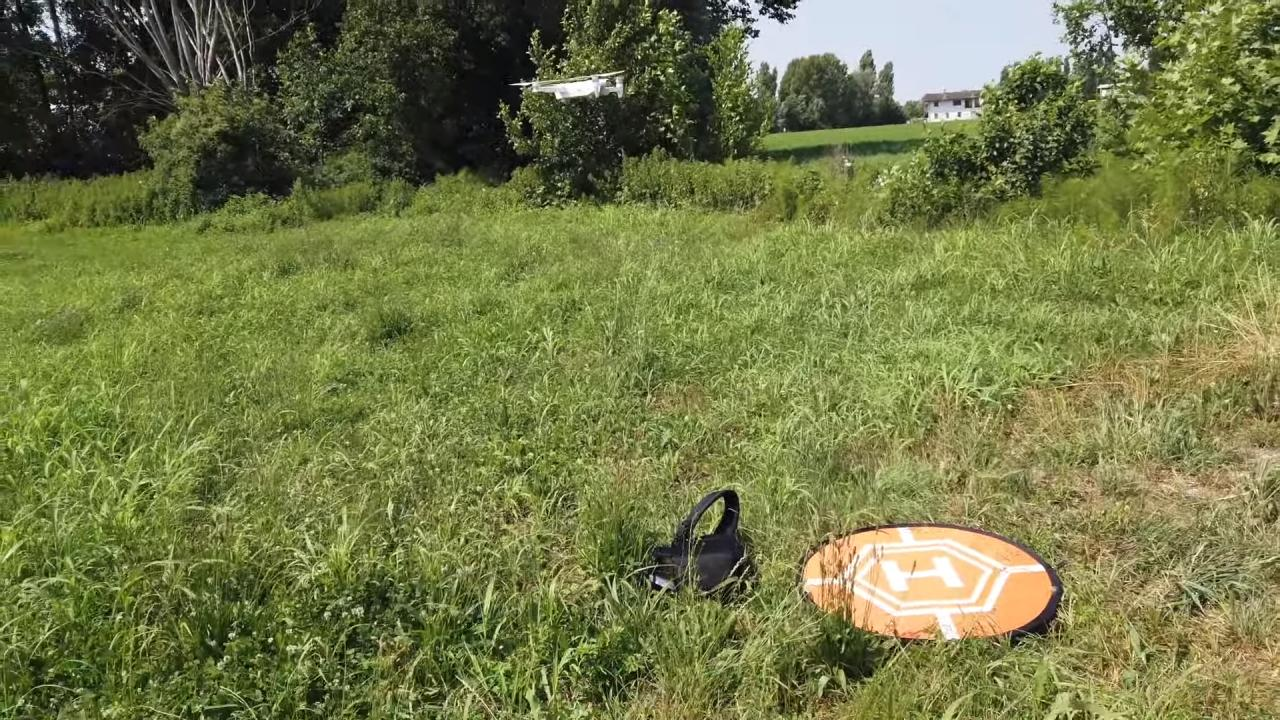Drone: (500, 60, 644, 112)
